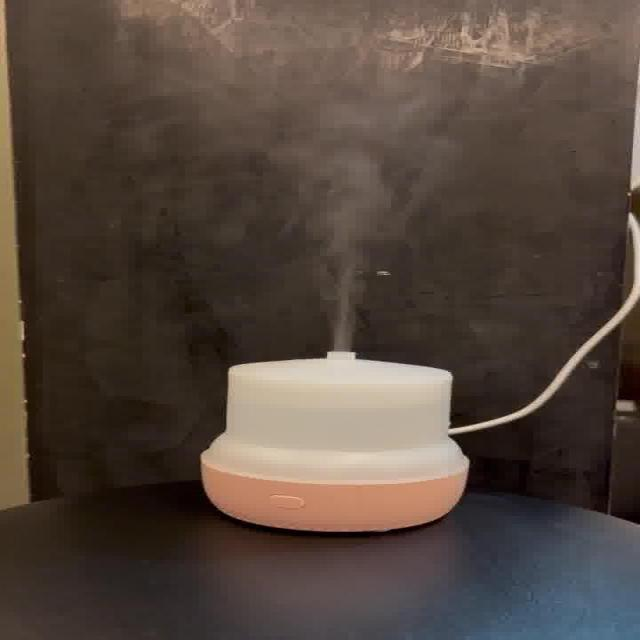fire: (271, 132, 448, 350)
